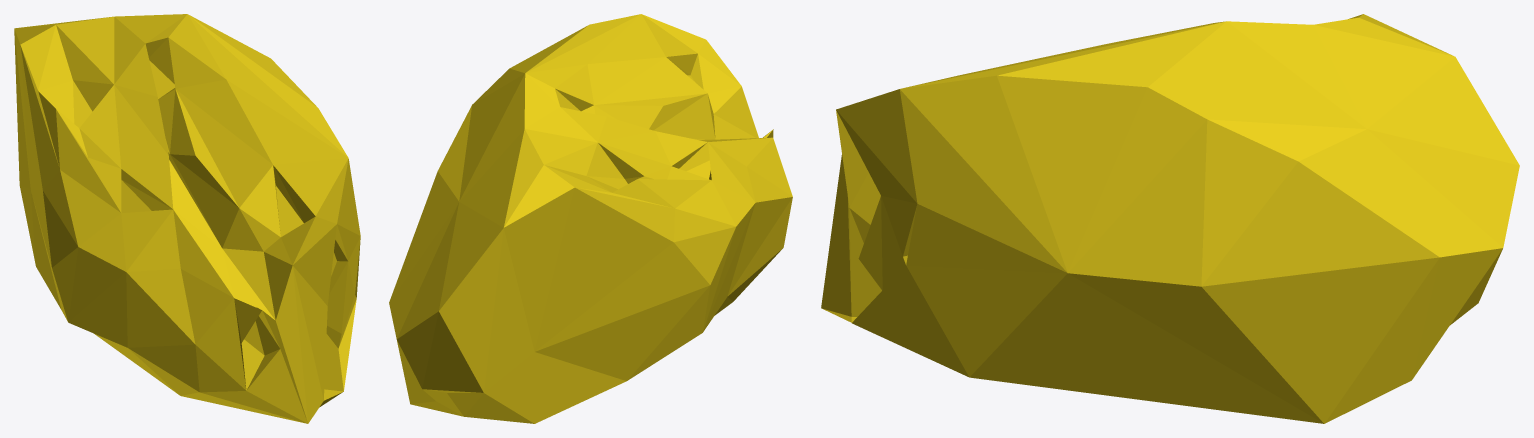
Rendered from meteor_yellow_bond_resin_05.glb.
3 renders of one model, left to right at view 1: azimuth 30°, elevation 25°; view 2: azimuth 150°, elevation 25°; view 3: azimuth 270°, elevation 25°, orthographic. The views are drawn at different scales.
Parts seen in each view (by area): view 1: Mesh1.004; view 2: Mesh1.004; view 3: Mesh1.004.
Part boxes in pixels (x1=…): Mesh1.004: x1=14, y1=14, x2=360, y2=423; Mesh1.004: x1=389, y1=14, x2=792, y2=423; Mesh1.004: x1=821, y1=14, x2=1519, y2=423.
Size of the model in its own units: 1.37 by 1.61 by 2.71.
